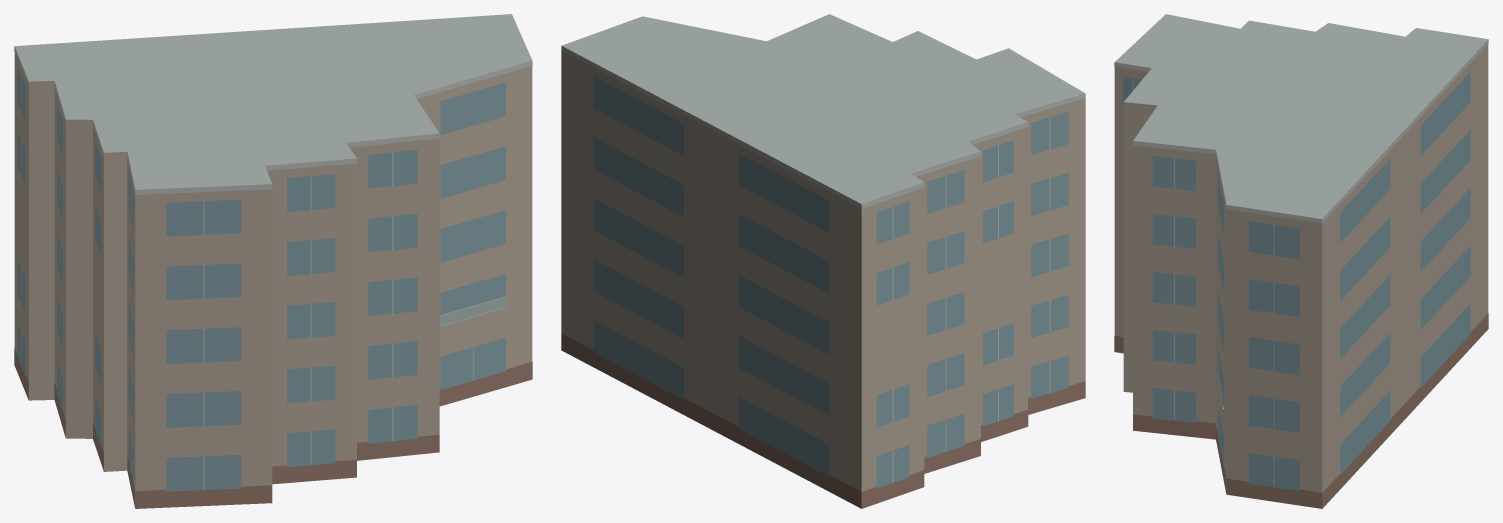
Rendered from survey-upis-33036750.glb.
3 renders of one model, left to right at view 1: azimuth 30°, elevation 25°; view 2: azimuth 150°, elevation 25°; view 3: azimuth 270°, elevation 25°, orthographic. The views are drawn at different scales.
Visible parts, largest first — view 1: survey-upis-33036750.tmp; view 2: survey-upis-33036750.tmp; view 3: survey-upis-33036750.tmp.
Boxes of the visible parts, x1=… form: survey-upis-33036750.tmp: x1=14, y1=14, x2=532, y2=508; survey-upis-33036750.tmp: x1=561, y1=14, x2=1085, y2=508; survey-upis-33036750.tmp: x1=1114, y1=14, x2=1488, y2=508.
Bounding box in the file's own units: 23.16 × 15.25 × 17.85.
